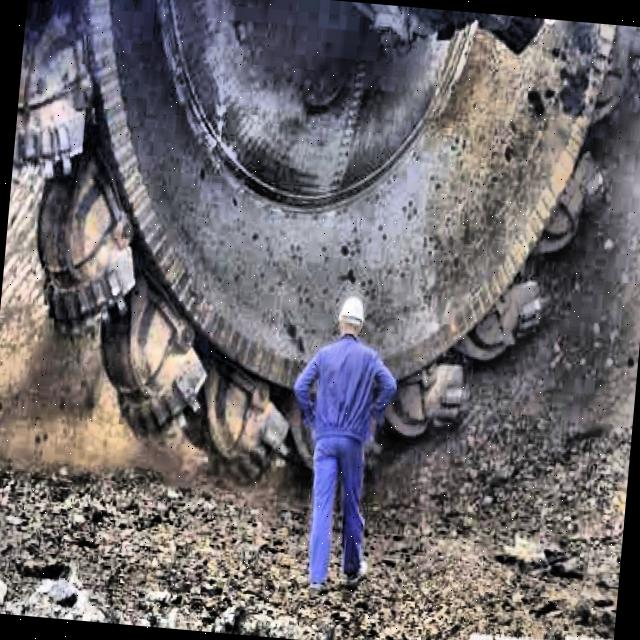helmet: (332, 290, 372, 346)
